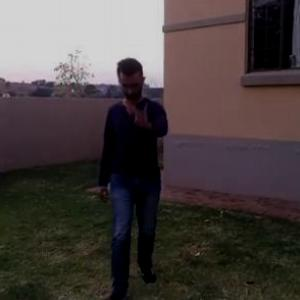takeoff-hand: (124, 97, 155, 134)
